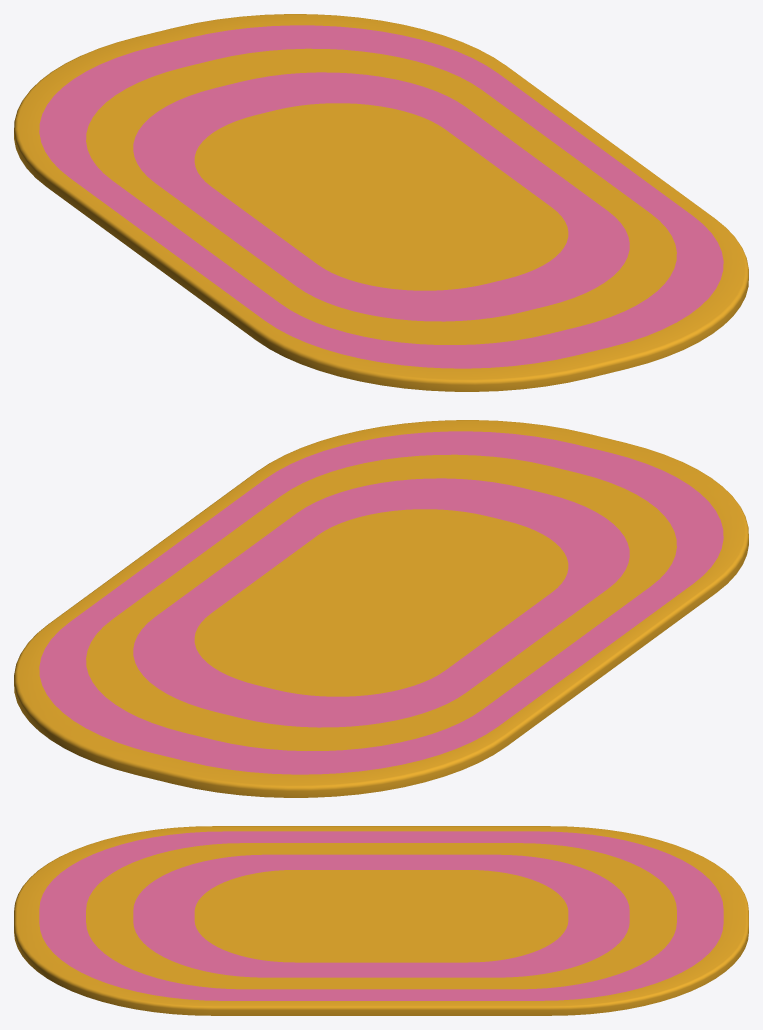
File: pillCarpet_v1.fbx
3 renders of one model, top to bottom at view 1: azimuth 30°, elevation 25°; view 2: azimuth 150°, elevation 25°; view 3: azimuth 270°, elevation 25°, orthographic. The views are drawn at different scales.
Visible parts, largest first — view 1: Pill_carpet; view 2: Pill_carpet; view 3: Pill_carpet.
Boxes of the visible parts, x1,y1,x2,y2 form: Pill_carpet: (14,14,748,391); Pill_carpet: (14,420,748,797); Pill_carpet: (14,826,748,1015).
Bounding box in the file's own units: 329 × 7.28 × 562.
